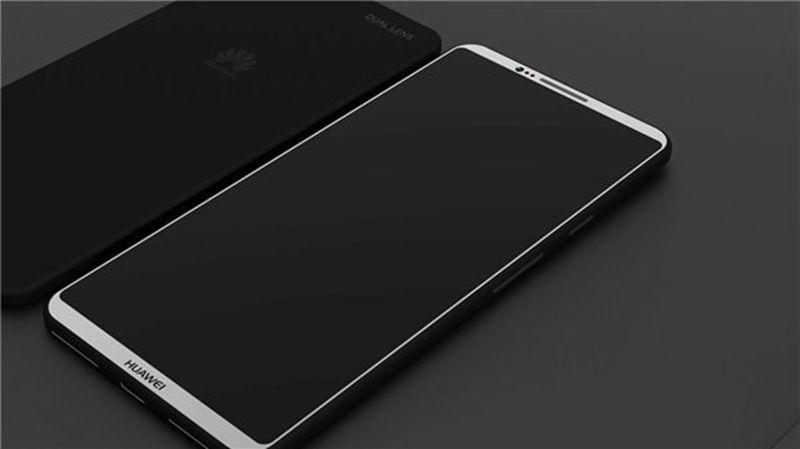phone: (113, 102, 637, 428), (3, 12, 411, 156)
